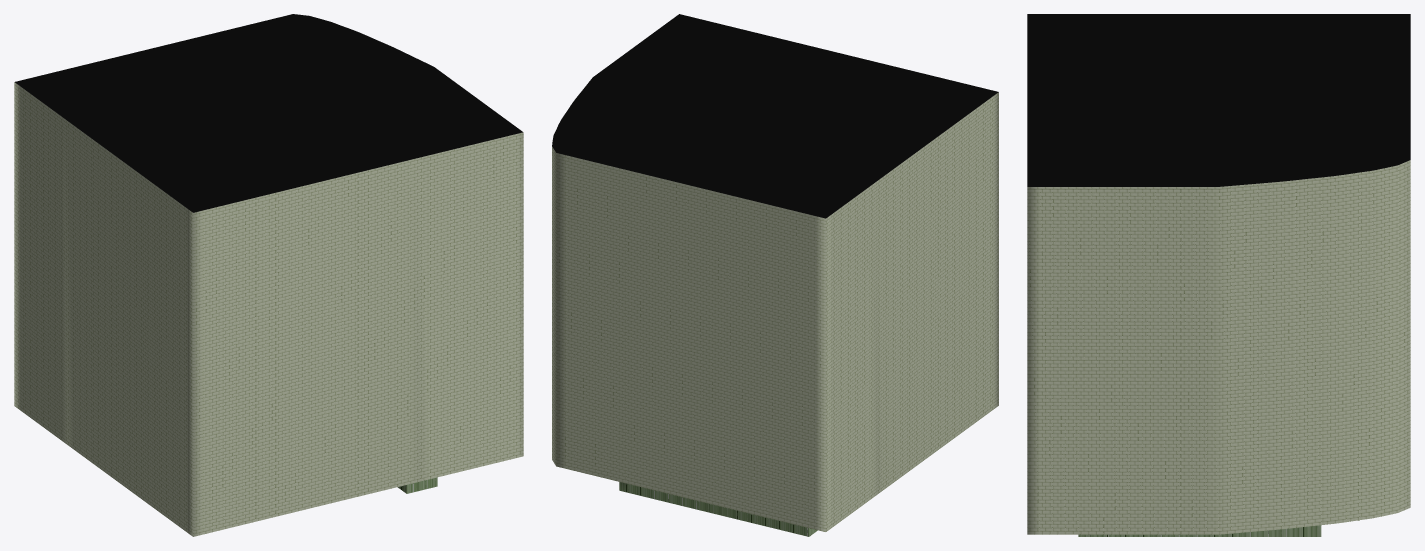
The model's file is r_BioLab.fbx.
3 renders of one model, left to right at view 1: azimuth 30°, elevation 25°; view 2: azimuth 150°, elevation 25°; view 3: azimuth 270°, elevation 25°, orthographic. The views are drawn at different scales.
Parts seen in each view (by area): view 1: polySurface3; view 2: polySurface3; view 3: polySurface3.
Boxes of the visible parts, x1,y1,x2,y2 form: polySurface3: [14, 14, 523, 536]; polySurface3: [552, 14, 998, 536]; polySurface3: [1027, 14, 1410, 536].
Size of the model in its own units: 32 by 33 by 30.
